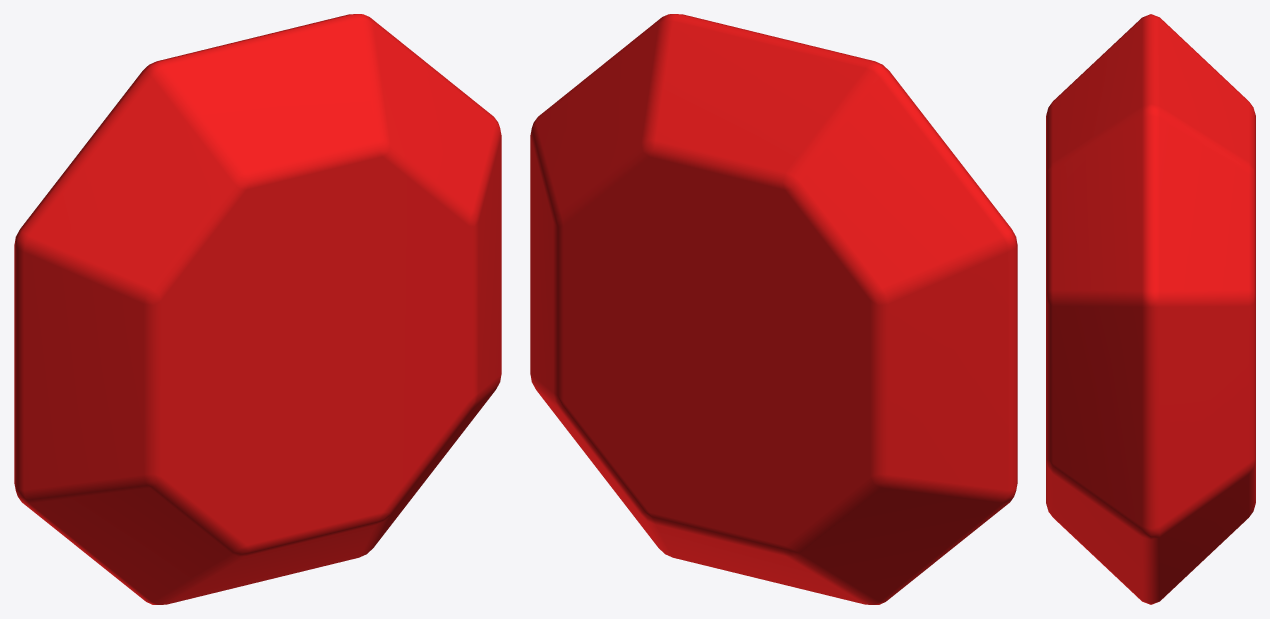
The picture shows the model from 3 angles, left to right: view 1: azimuth 30°, elevation 25°; view 2: azimuth 150°, elevation 25°; view 3: azimuth 270°, elevation 25°; orthographic projection. The views are drawn at different scales.
Visible parts, largest first — view 1: model_0.097; view 2: model_0.097; view 3: model_0.097.
Part boxes in pixels (x1,y1,x2,y2): model_0.097: (14, 14, 501, 604); model_0.097: (530, 14, 1017, 604); model_0.097: (1046, 14, 1255, 604).
Bounding box in the file's own units: 3.3 × 3.54 × 1.35.
